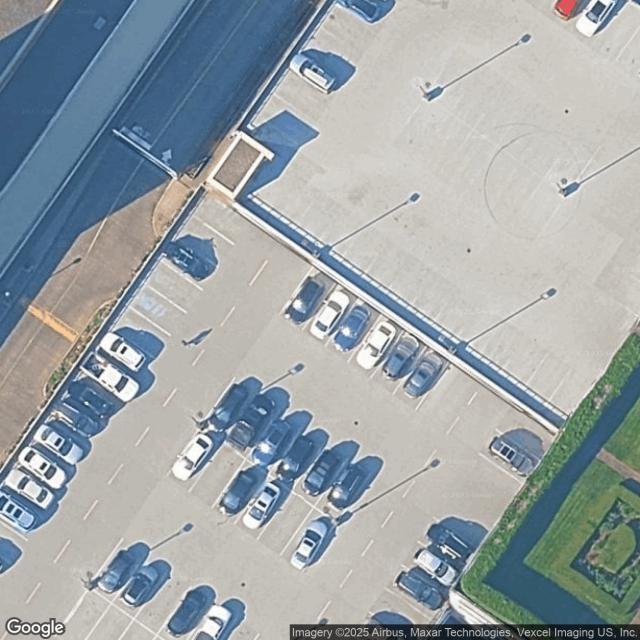car: (77, 345, 146, 408), (223, 390, 284, 457), (28, 417, 94, 471), (13, 441, 76, 497), (59, 373, 122, 428), (0, 463, 64, 515), (47, 392, 108, 445), (278, 271, 330, 332), (390, 564, 452, 615), (99, 321, 155, 377), (420, 522, 481, 573), (407, 539, 464, 592), (201, 378, 252, 437), (269, 430, 320, 489), (91, 542, 141, 602), (245, 414, 298, 469), (117, 557, 166, 613), (161, 586, 212, 639), (215, 467, 263, 520), (298, 448, 344, 500), (321, 463, 368, 513), (183, 598, 238, 639), (163, 239, 214, 281), (291, 516, 331, 569), (289, 52, 336, 94), (490, 434, 536, 476), (172, 434, 213, 481), (356, 322, 395, 370), (311, 291, 349, 339), (577, 0, 624, 36), (243, 483, 280, 528), (404, 358, 441, 398), (336, 0, 391, 23), (553, 0, 588, 21)
lot_boundary: (0, 0, 639, 639)
